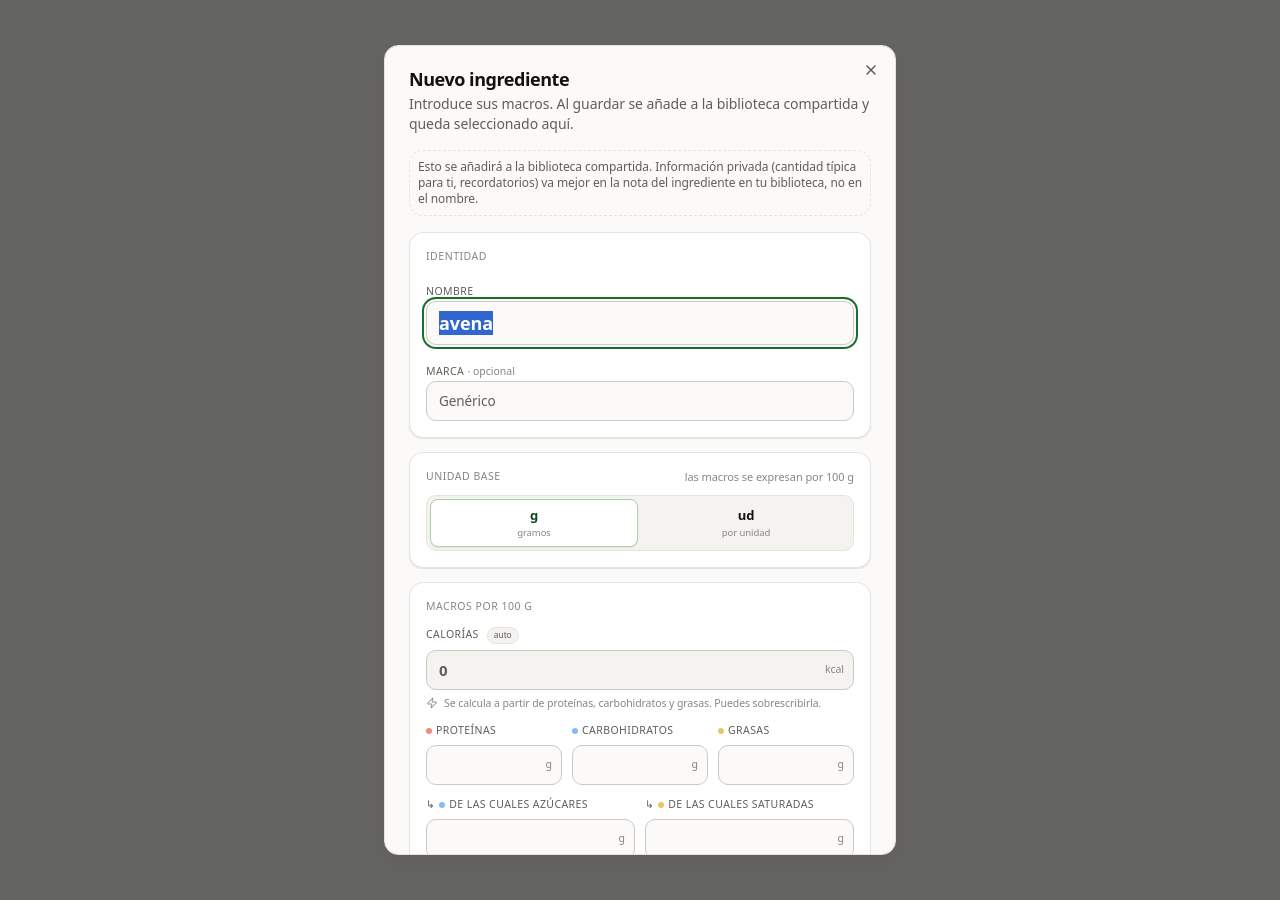
IngredientDialog — create-only › is the editor, not a second form: the auto-kcal chip and the preview are here
The image size is (1280, 900).
Type "10" into the field labelled "Proteínas" at (494, 765), box [426, 745, 562, 785]
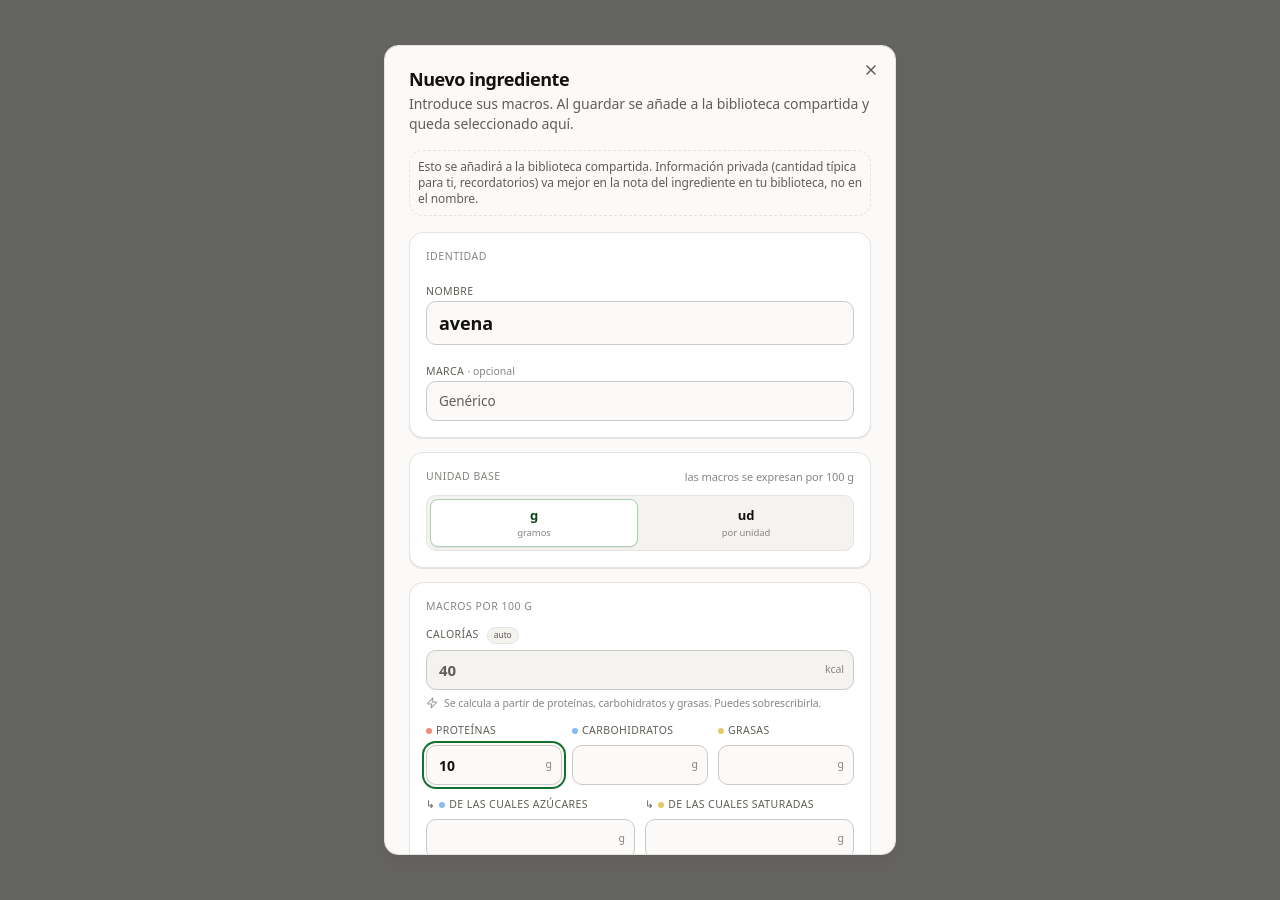
Type "20" into the field labelled "Carbohidratos" at (640, 765), box [572, 745, 708, 785]
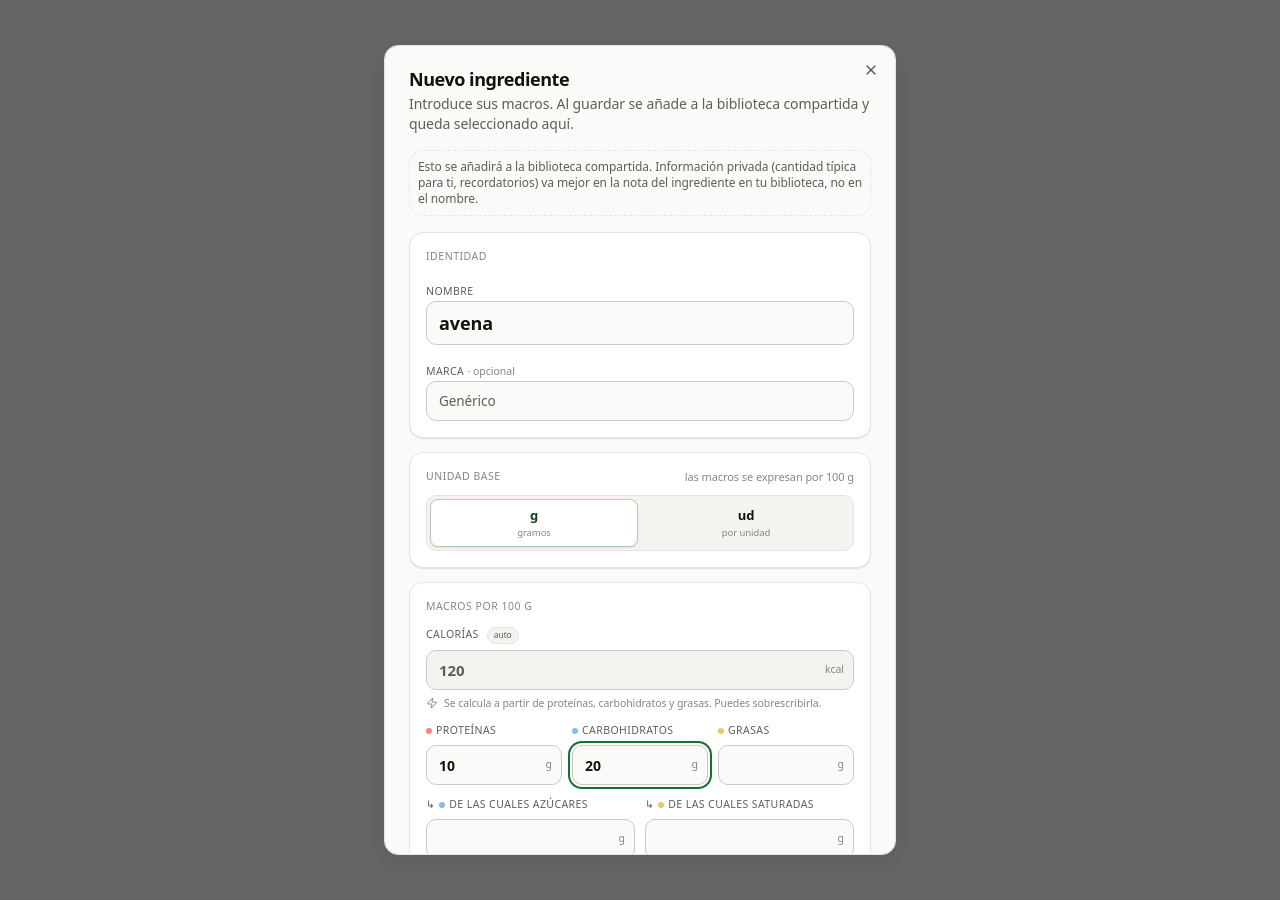
Type "5" into the field labelled "Grasas" at (786, 765), box [718, 745, 854, 785]
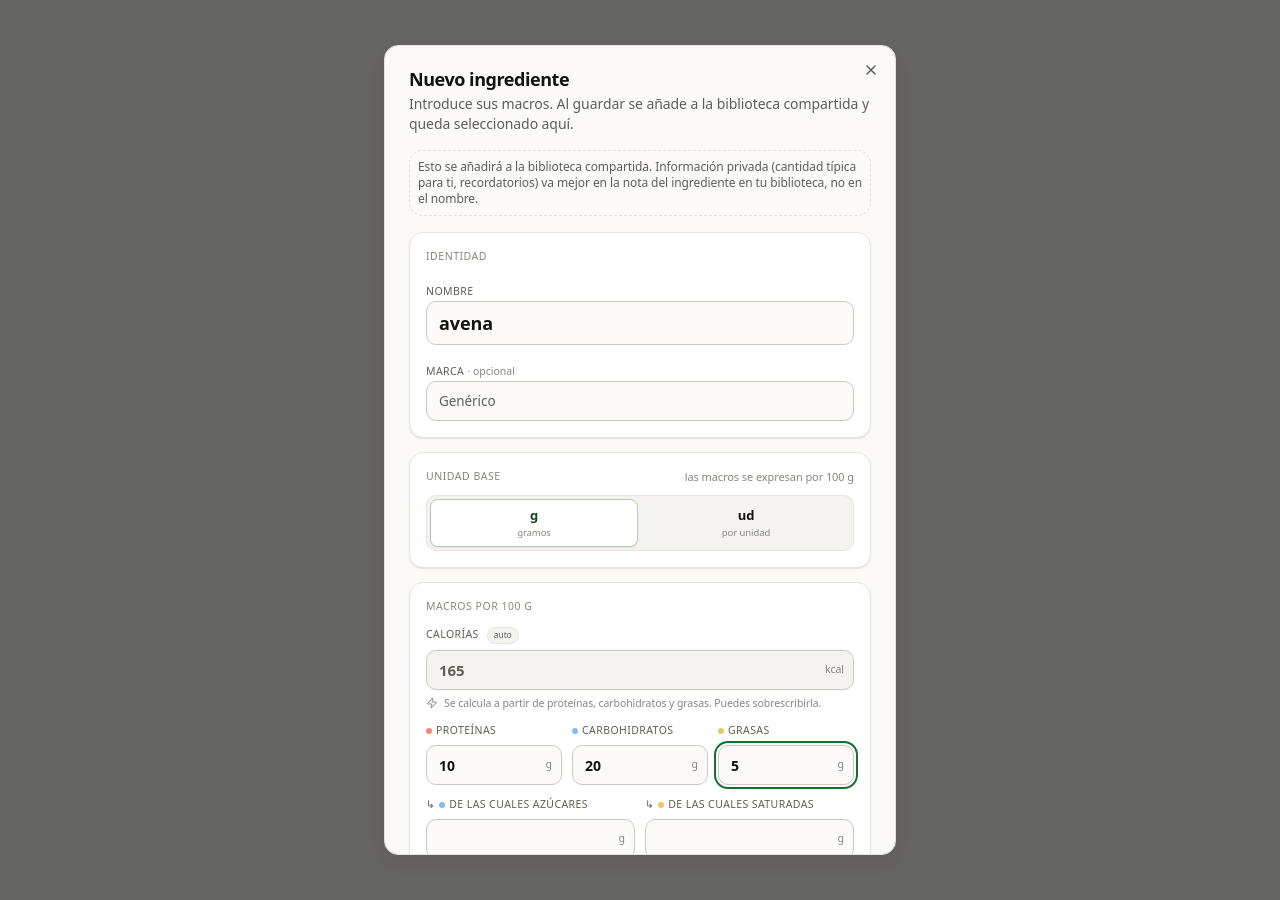
Check: the text "auto" is shown, box [487, 627, 519, 644]
Check: the field labelled "Calorías" holds "165", box [426, 650, 854, 690]
